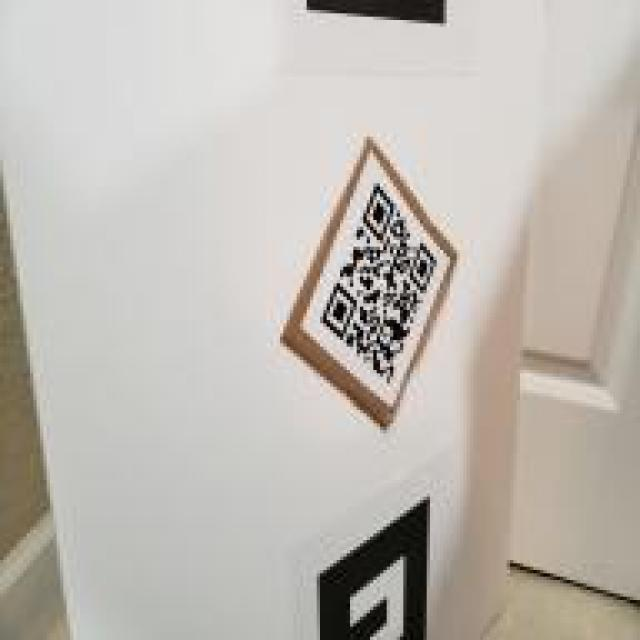QR_CODE: (317, 180, 440, 393)
